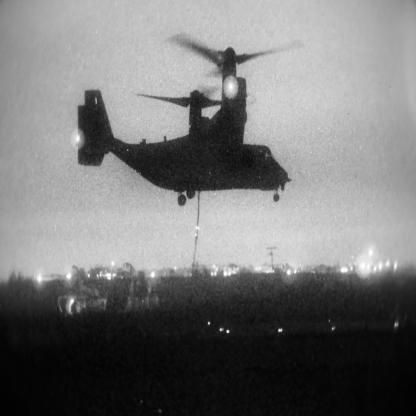V22: (76, 32, 305, 208)
